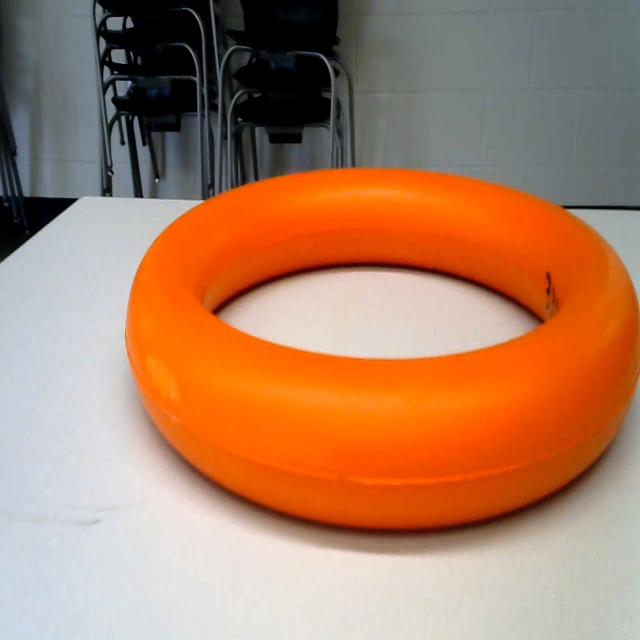note: (106, 144, 640, 566)
